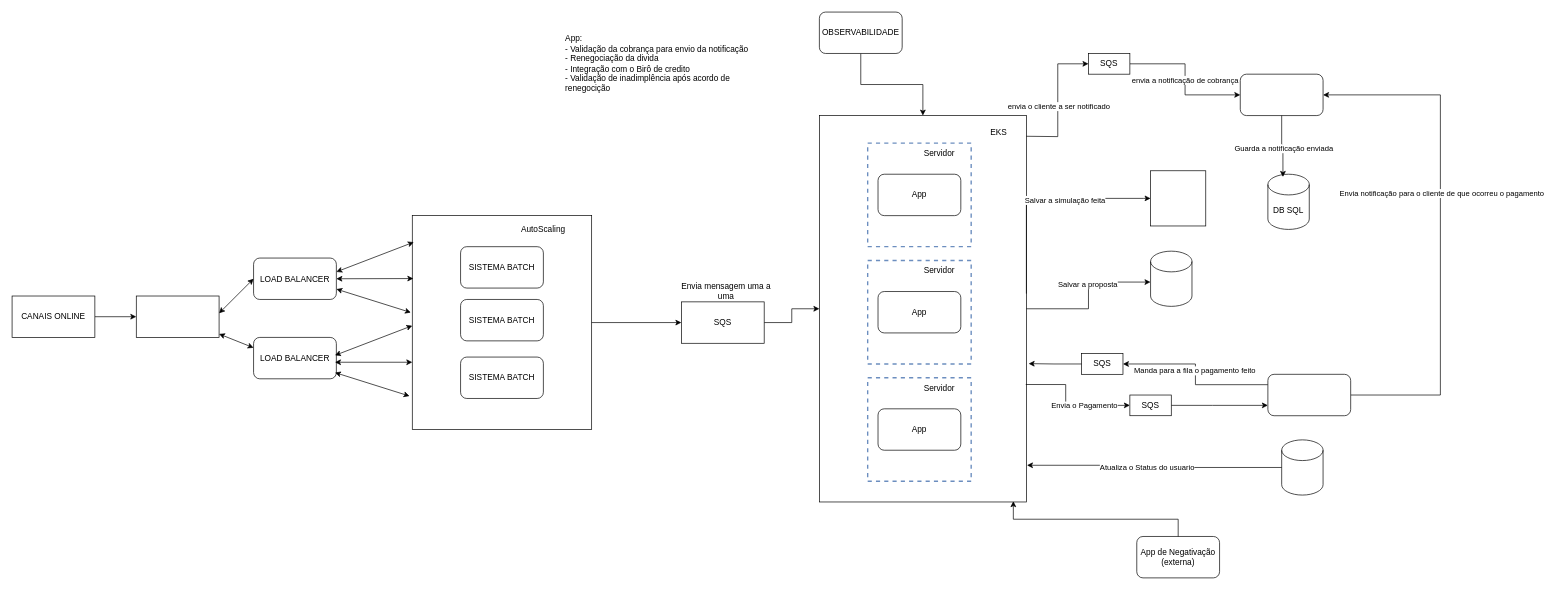
Some shapes in this 1556 by 590 pixel diagram are drawn without their labels. Here are the shapes that lost their labels. From the top down, the centre of each, then its label:
the point at 1281,94: App Notificação
the point at 1178,198: Cache(Redis)
the point at 1171,278: NoSql
the point at 177,316: API GATEWAY
the point at 1309,395: App Pagamentos
the point at 1302,467: DB
